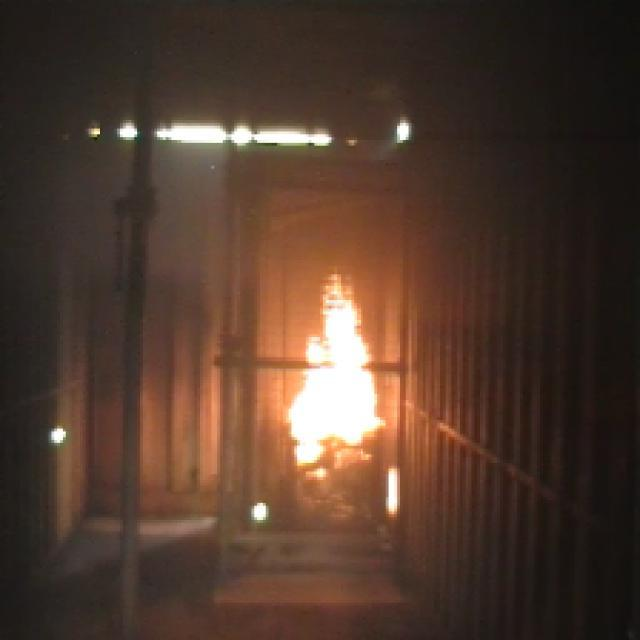Fire: (282, 266, 384, 466)
